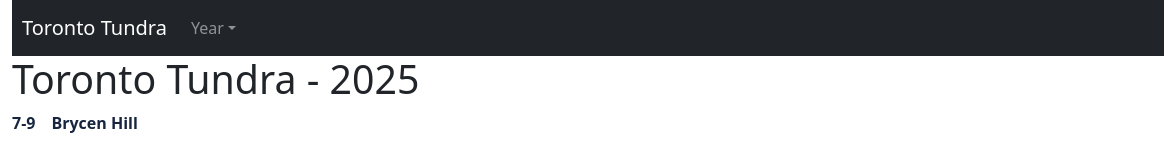
Scenario: Toronto Tundra has its GM, 2025 record, and no pre-expansion year links
Check: the text "Brycen Hill" is shown, box left=52, top=111, right=138, bottom=135
Check: the text "7-9" is shown, box left=12, top=111, right=36, bottom=135
Click the button "Year". click: point(213, 28)
box: left=183, top=8, right=244, bottom=48
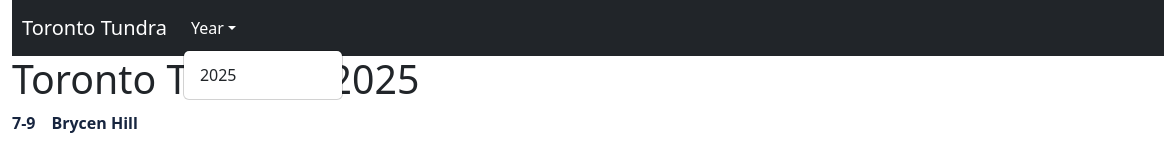
Check: the link "2025" is shown, box left=200, top=64, right=236, bottom=86
